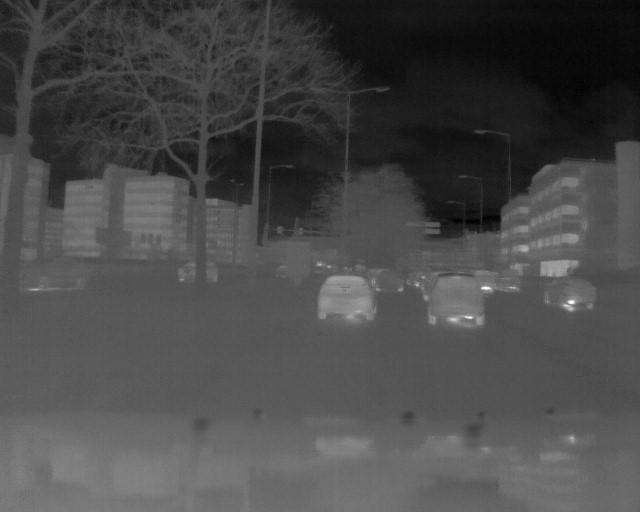car: (314, 269, 382, 325), (423, 271, 489, 328), (542, 276, 600, 312)
